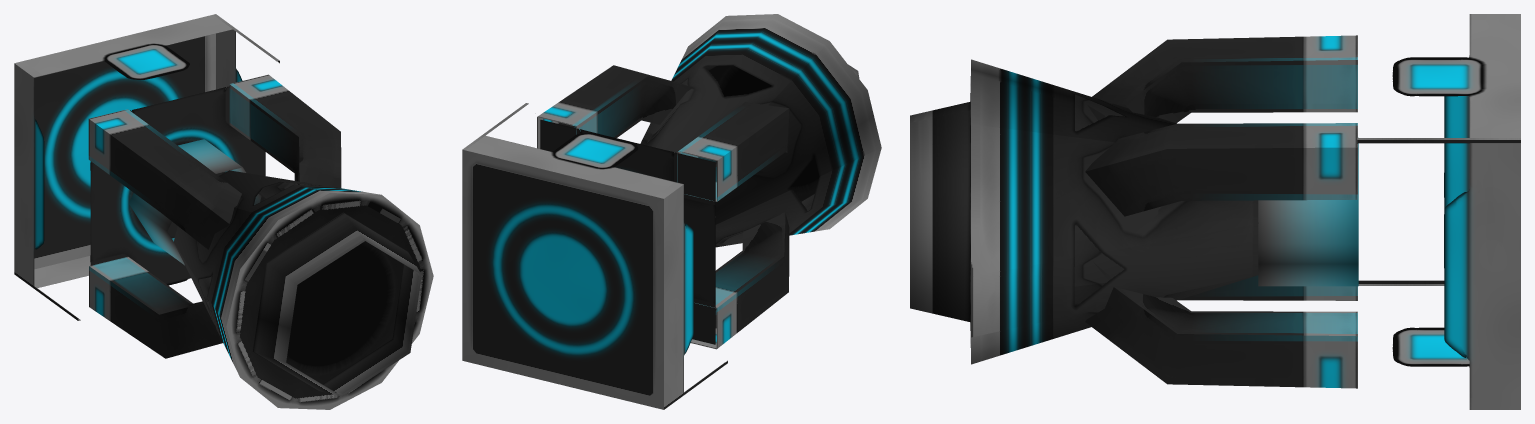
File: obj_interactive_thruster_05_lod1.fbx
3 renders of one model, left to right at view 1: azimuth 30°, elevation 25°; view 2: azimuth 150°, elevation 25°; view 3: azimuth 270°, elevation 25°, orthographic. The views are drawn at different scales.
Visible parts, largest first — view 1: pCylinder6; view 2: pCylinder6; view 3: pCylinder6.
Boxes of the visible parts, box(x1,y1,x2,y2) form: pCylinder6: box(14, 14, 433, 409); pCylinder6: box(462, 14, 881, 409); pCylinder6: box(910, 14, 1520, 409).
Bounding box in the file's own units: 2.06 × 2.06 × 4.1.
Materials: 1 (1 with a texture image).
